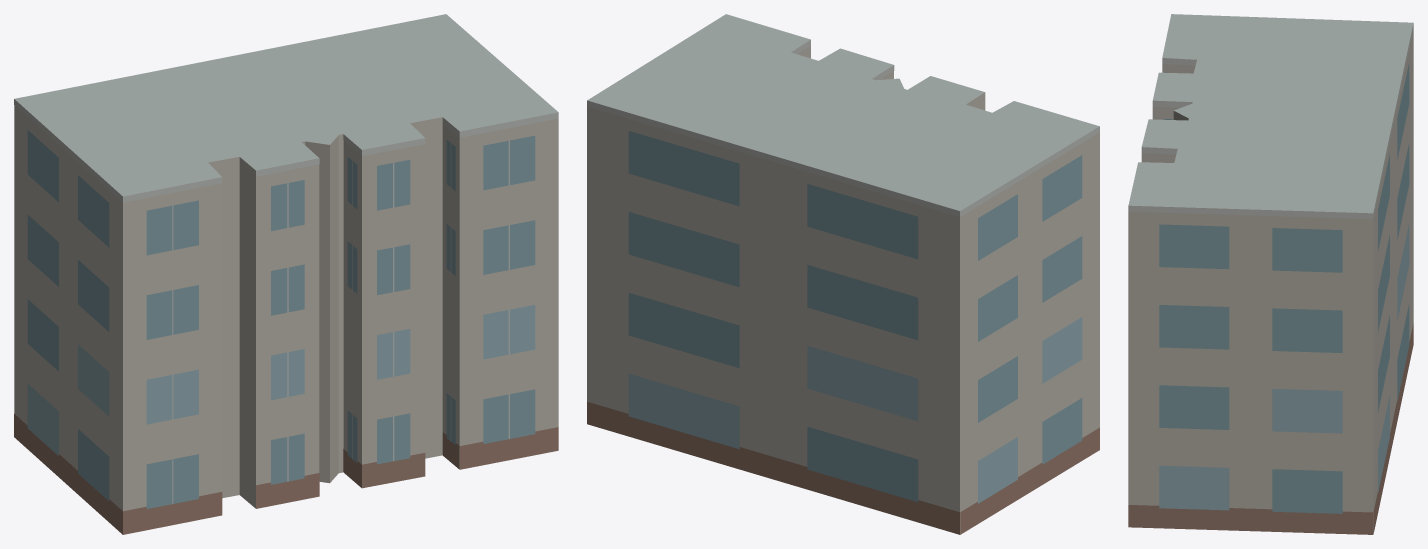
File: survey-upis-32591903.glb
3 renders of one model, left to right at view 1: azimuth 30°, elevation 25°; view 2: azimuth 150°, elevation 25°; view 3: azimuth 270°, elevation 25°, orthographic. The views are drawn at different scales.
Visible parts, largest first — view 1: survey-upis-32591903.tmp; view 2: survey-upis-32591903.tmp; view 3: survey-upis-32591903.tmp.
Part boxes in pixels (<box>): survey-upis-32591903.tmp: <box>14,14,558,534</box>; survey-upis-32591903.tmp: <box>587,14,1099,534</box>; survey-upis-32591903.tmp: <box>1128,14,1413,534</box>.
Size of the model in its own units: 17.75 by 13.35 by 10.74.
